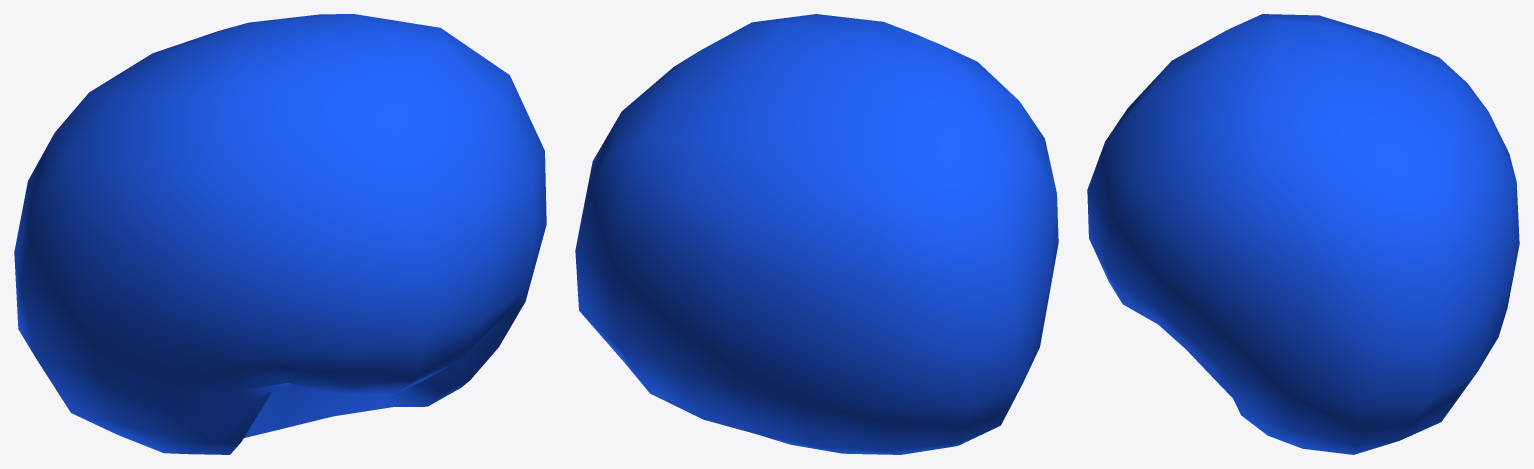
The model's file is Disco_Hairs_01.fbx.
The picture shows the model from 3 angles, left to right: view 1: azimuth 30°, elevation 25°; view 2: azimuth 150°, elevation 25°; view 3: azimuth 270°, elevation 25°; orthographic projection. The views are drawn at different scales.
Visible parts, largest first — view 1: Disco_Hairs_01; view 2: Disco_Hairs_01; view 3: Disco_Hairs_01.
Part boxes in pixels (x1,y1,x2,y2): Disco_Hairs_01: (14,14,546,454); Disco_Hairs_01: (575,14,1058,454); Disco_Hairs_01: (1087,14,1519,454).
Size of the model in its own units: 118 by 97.16 by 104.
